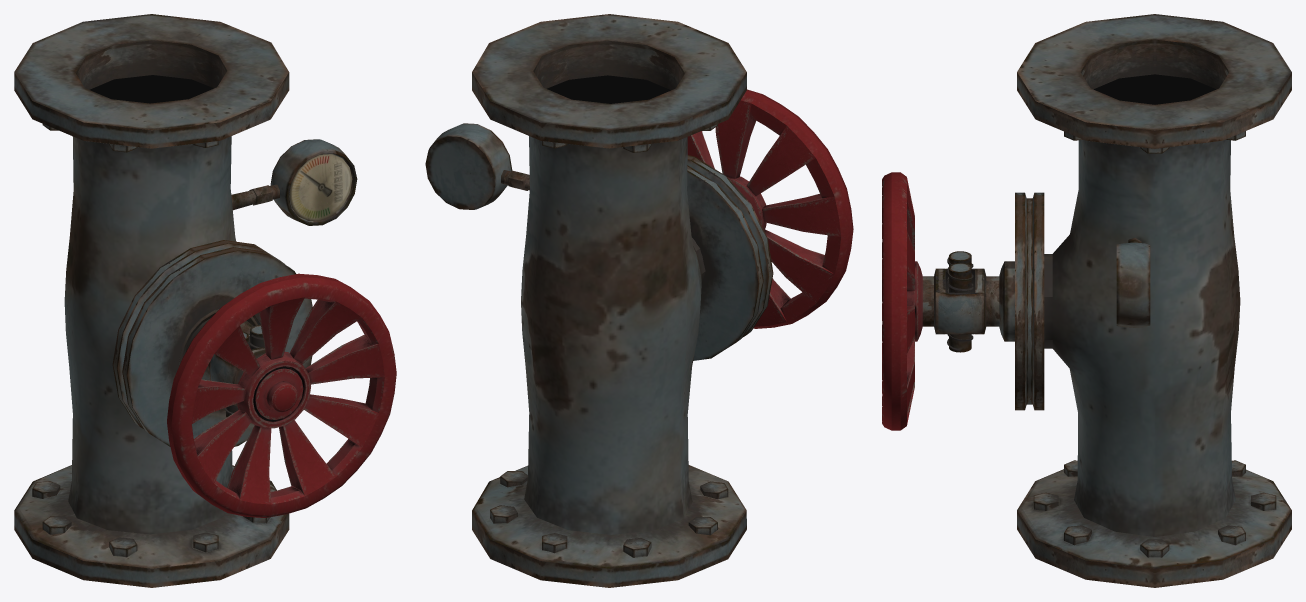
The model's file is pipe08.gltf.
3 renders of one model, left to right at view 1: azimuth 30°, elevation 25°; view 2: azimuth 150°, elevation 25°; view 3: azimuth 270°, elevation 25°, orthographic.
Visible parts, largest first — view 1: modular_industrial_pipes_01_pipe08; view 2: modular_industrial_pipes_01_pipe08; view 3: modular_industrial_pipes_01_pipe08.
Boxes of the visible parts, box(x1,y1,x2,y2) form: modular_industrial_pipes_01_pipe08: box(14, 14, 396, 587); modular_industrial_pipes_01_pipe08: box(425, 14, 853, 587); modular_industrial_pipes_01_pipe08: box(882, 14, 1291, 587).
Bounding box in the file's own units: 0.2663 × 0.3788 × 0.3076.
1 material, 1 textured.
